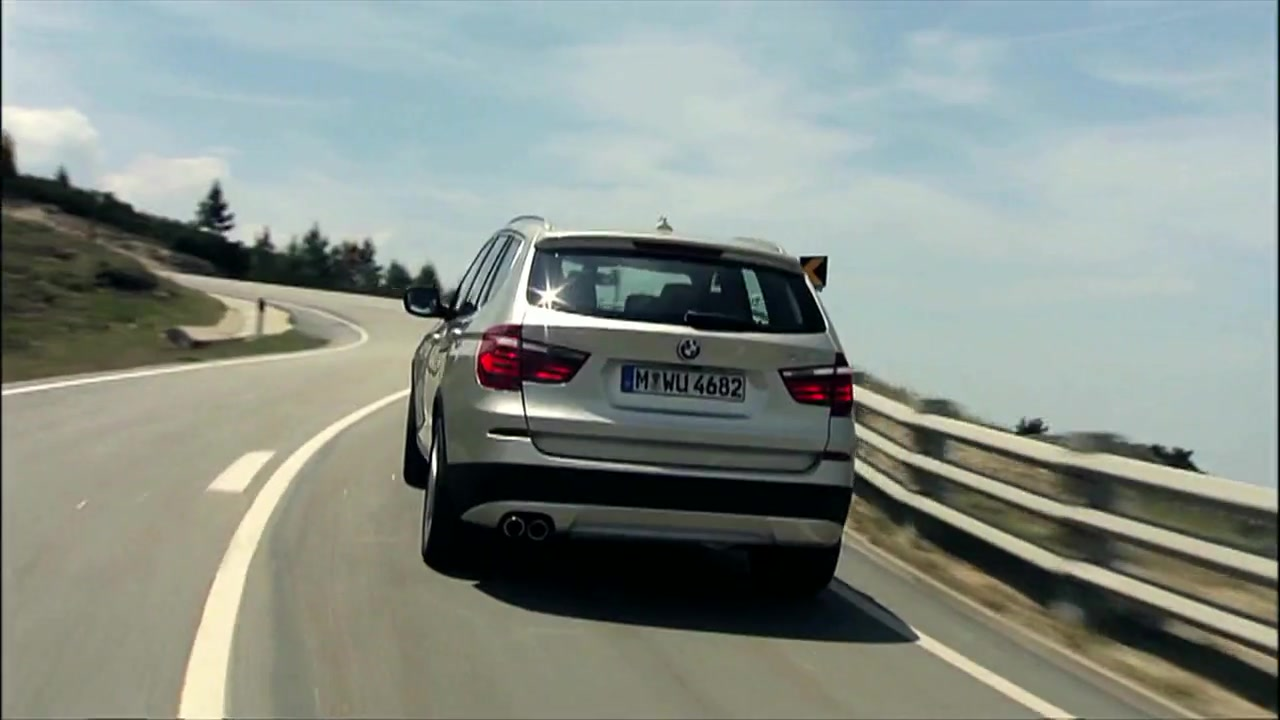car: (398, 214, 862, 612)
